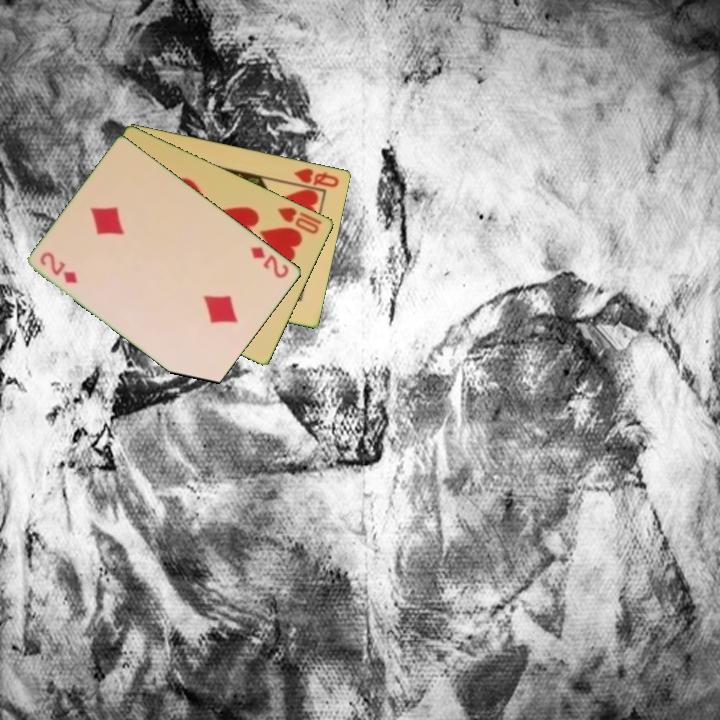10h: (274, 203, 325, 237)
2d: (247, 243, 292, 281), (37, 248, 81, 286)
Qh: (290, 164, 342, 190)
